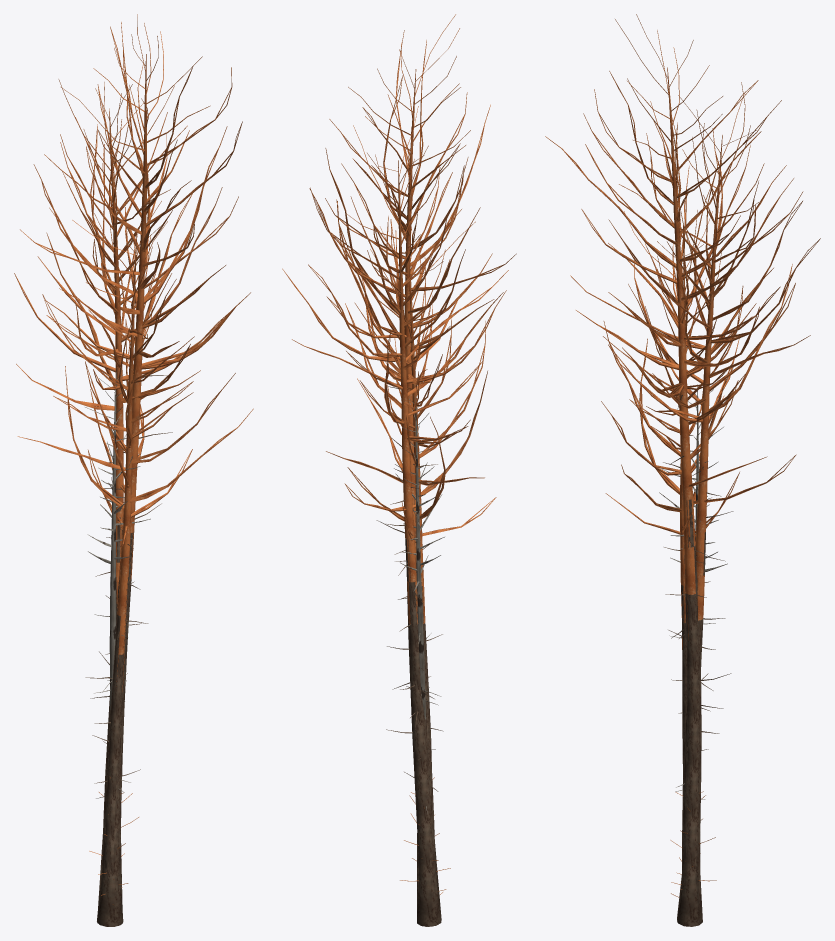
Rendered from pine_wood.glb.
The picture shows the model from 3 angles, left to right: view 1: azimuth 30°, elevation 25°; view 2: azimuth 150°, elevation 25°; view 3: azimuth 270°, elevation 25°; orthographic projection. The views are drawn at different scales.
Visible parts, largest first — view 1: pine_c, pine_b, pine_a, pine_c_l1, pine_a_l1, pine_b_l1, pine_dead_a, pine_c_l2, pine_a_l2; view 2: pine_c, pine_a, pine_b, pine_c_l1, pine_a_l1, pine_b_l1, pine_dead_a, pine_c_l2, pine_a_l2, pine_dead_a_l1; view 3: pine_c, pine_a, pine_c_l1, pine_b, pine_a_l1, pine_b_l1, pine_c_l2, pine_dead_a.
Part boxes in pixels (<box>): pine_c: <box>20,14,249,926</box>; pine_b: <box>18,201,253,876</box>; pine_a: <box>14,79,238,876</box>; pine_c_l1: <box>20,23,246,925</box>; pine_a_l1: <box>14,112,234,876</box>; pine_b_l1: <box>31,239,252,802</box>; pine_dead_a: <box>85,372,150,798</box>; pine_c_l2: <box>98,54,250,924</box>; pine_a_l2: <box>109,111,123,877</box>; pine_c: <box>282,14,516,926</box>; pine_a: <box>292,106,508,752</box>; pine_b: <box>326,221,496,866</box>; pine_c_l1: <box>288,30,515,926</box>; pine_a_l1: <box>292,161,507,757</box>; pine_b_l1: <box>345,258,494,808</box>; pine_dead_a: <box>395,398,444,813</box>; pine_c_l2: <box>365,79,441,926</box>; pine_a_l2: <box>398,160,421,707</box>; pine_dead_a_l1: <box>401,401,443,718</box>; pine_c: <box>545,14,793,926</box>; pine_a: <box>571,82,820,875</box>; pine_c_l1: <box>548,68,791,926</box>; pine_b: <box>601,210,796,789</box>; pine_a_l1: <box>570,133,819,874</box>; pine_b_l1: <box>602,265,795,786</box>; pine_c_l2: <box>625,70,699,924</box>; pine_dead_a: <box>659,384,727,799</box>.
Bounding box in the file's own units: 6.01 × 25.12 × 6.92.
Materials: 3 (3 with a texture image).
